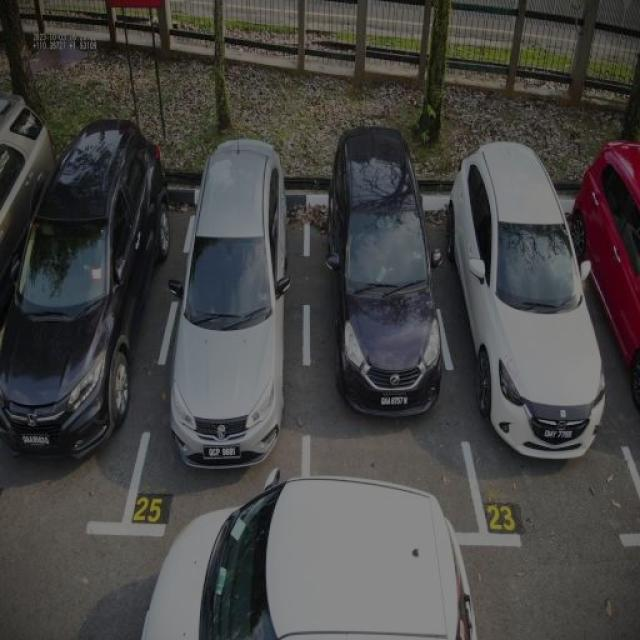Legalparking: (0, 121, 169, 456), (448, 142, 604, 459), (169, 139, 289, 466), (325, 126, 440, 412), (570, 142, 639, 408)
illegalparking: (142, 471, 476, 639)
